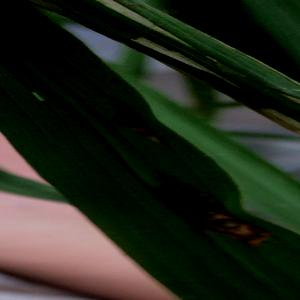1 RiceBlast: (141, 167, 275, 260), (89, 87, 166, 155)
